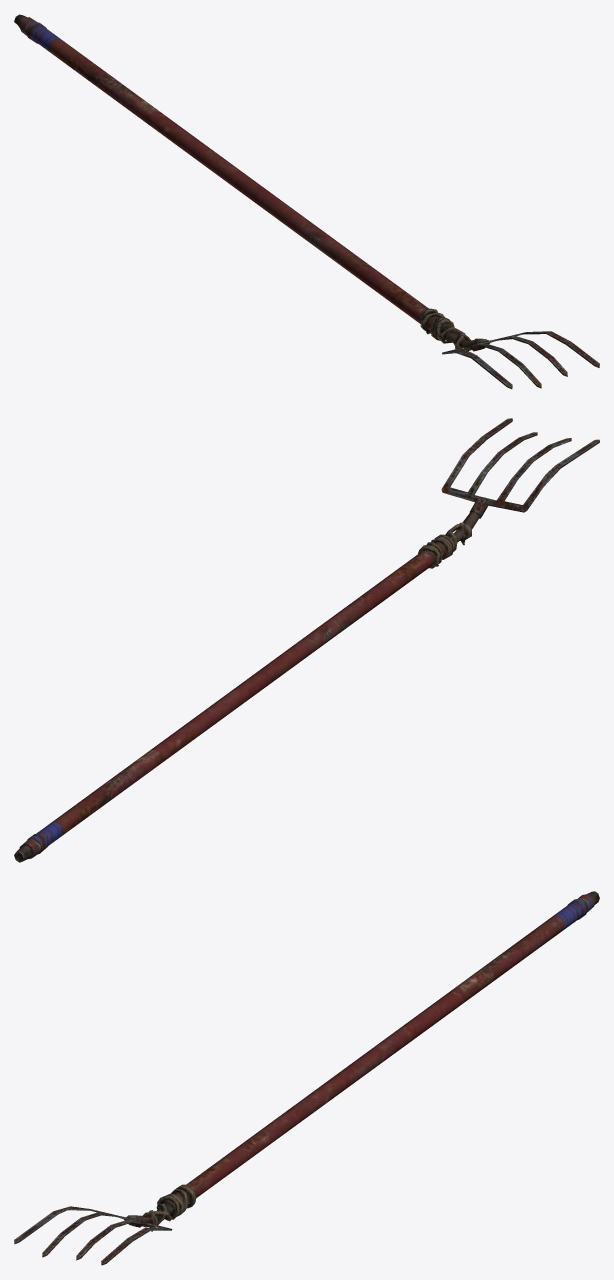
Rendered from ballista.bolt.pitchfork.projectile.glb.
3 views of the same model, one above another, from view 1: azimuth 30°, elevation 25°; view 2: azimuth 150°, elevation 25°; view 3: azimuth 330°, elevation 25° (orthographic).
Visible parts, largest first — view 1: w_ballista_fork_lod0; view 2: w_ballista_fork_lod0; view 3: w_ballista_fork_lod0.
Part boxes in pixels (<box>): w_ballista_fork_lod0: <box>14,14,599,389</box>; w_ballista_fork_lod0: <box>14,418,599,862</box>; w_ballista_fork_lod0: <box>14,891,599,1265</box>.
Size of the model in its own units: 0.2298 by 0.1172 by 2.32.
1 material, 1 textured.
